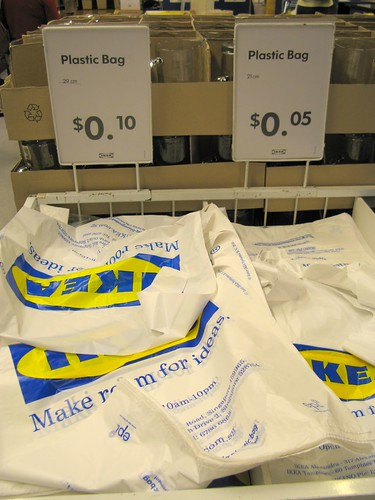plastic bag: (1, 203, 375, 493)
